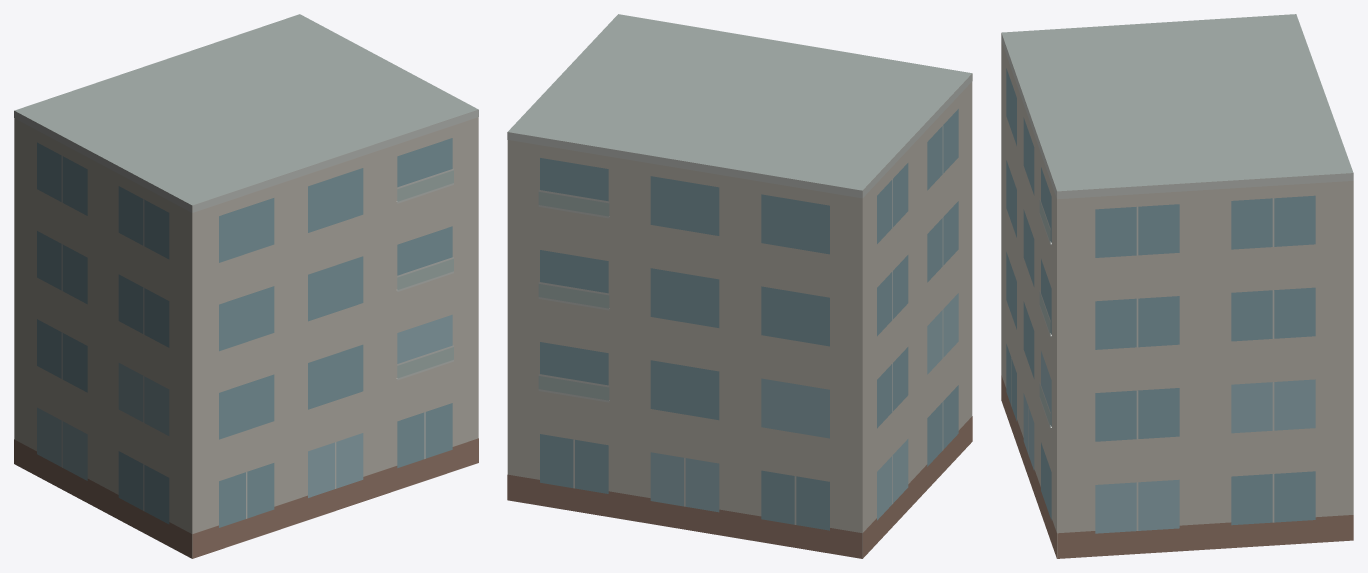
Rendered from survey-upis-32697121.glb.
3 renders of one model, left to right at view 1: azimuth 30°, elevation 25°; view 2: azimuth 150°, elevation 25°; view 3: azimuth 270°, elevation 25°, orthographic. The views are drawn at different scales.
Parts seen in each view (by area): view 1: survey-upis-32697121.tmp; view 2: survey-upis-32697121.tmp; view 3: survey-upis-32697121.tmp.
Part boxes in pixels (<box>): survey-upis-32697121.tmp: <box>14,14,478,558</box>; survey-upis-32697121.tmp: <box>507,14,972,558</box>; survey-upis-32697121.tmp: <box>1001,14,1353,558</box>.
Bounding box in the file's own units: 11.86 × 11.45 × 9.96.
